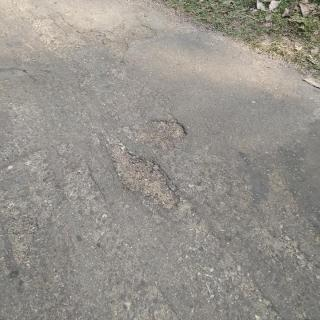pothole: (108, 144, 177, 210), (147, 119, 187, 146)
